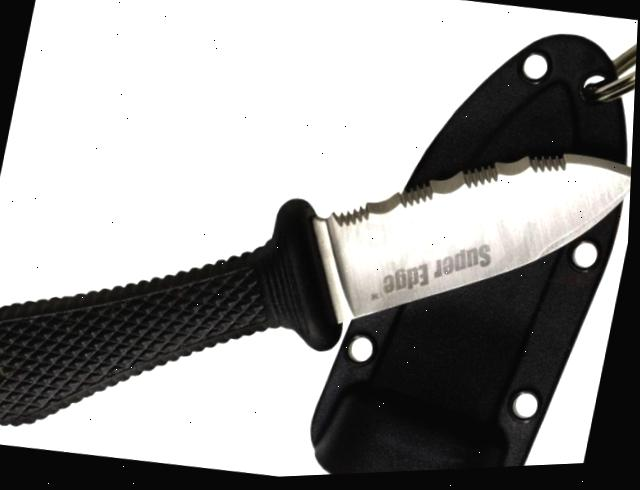pocket-knife: (0, 65, 637, 490)
